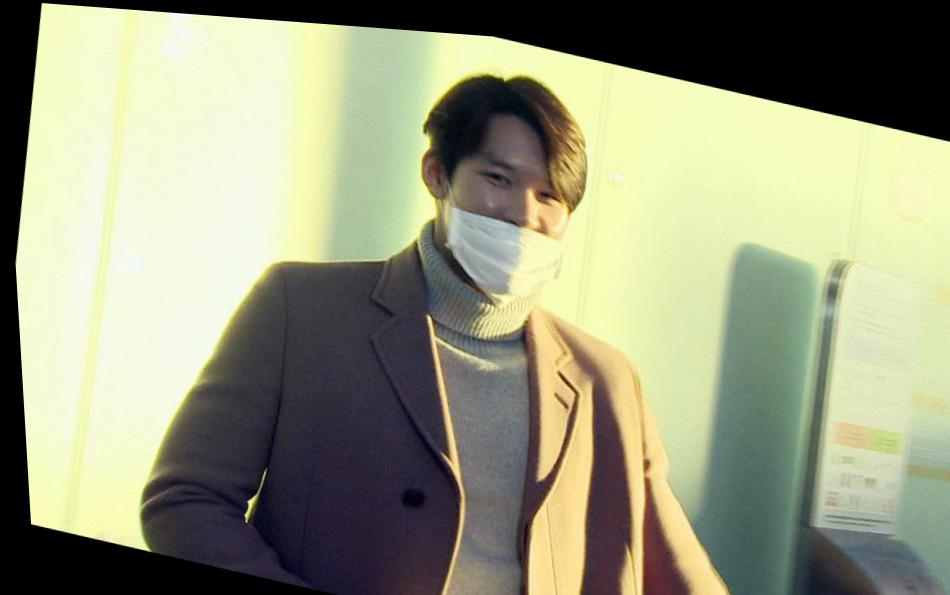WRONG: (421, 137, 580, 304)
